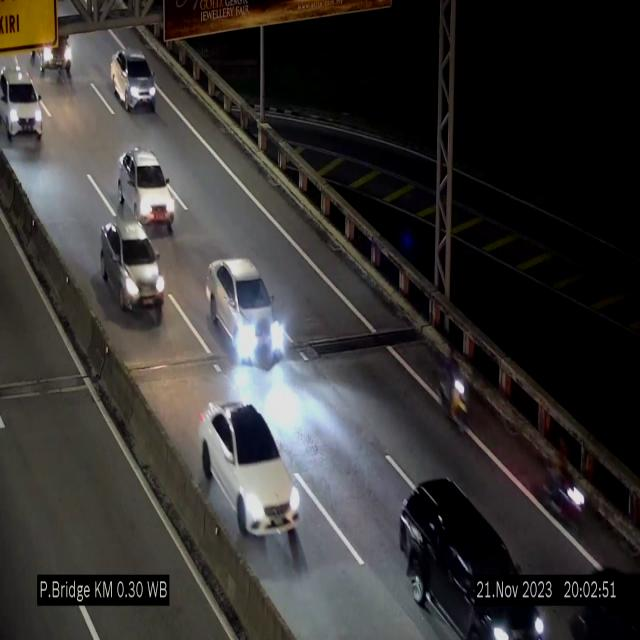Car: (396, 469, 546, 640), (200, 404, 300, 531), (204, 256, 286, 372), (100, 219, 164, 313), (120, 148, 175, 233), (0, 65, 42, 140), (111, 50, 156, 112)
Motorcycle: (436, 339, 472, 434), (549, 452, 589, 537)
